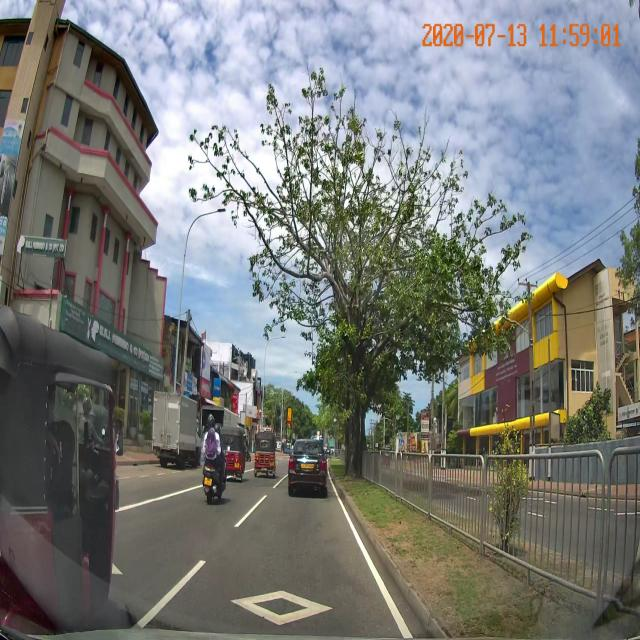diamond: (123, 566, 422, 639)
